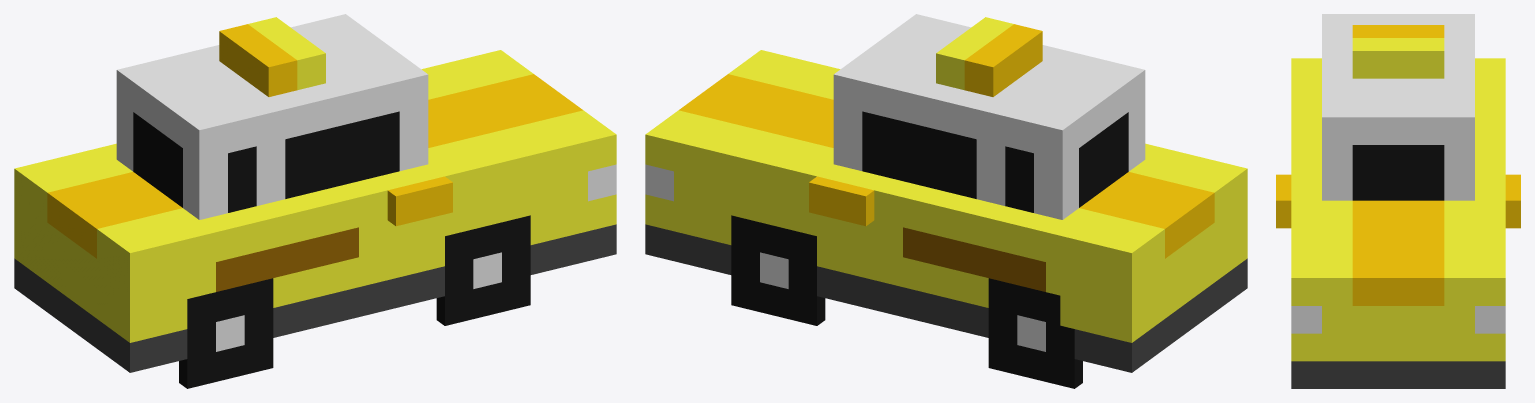
The model's file is roady_cross_assets-3.obj.
3 views of the same model, side by side, from view 1: azimuth 30°, elevation 25°; view 2: azimuth 150°, elevation 25°; view 3: azimuth 270°, elevation 25° (orthographic). The views are drawn at different scales.
Bounding box in the file's own units: 3.4 × 1.8 × 1.6.
1 material, 1 textured.
